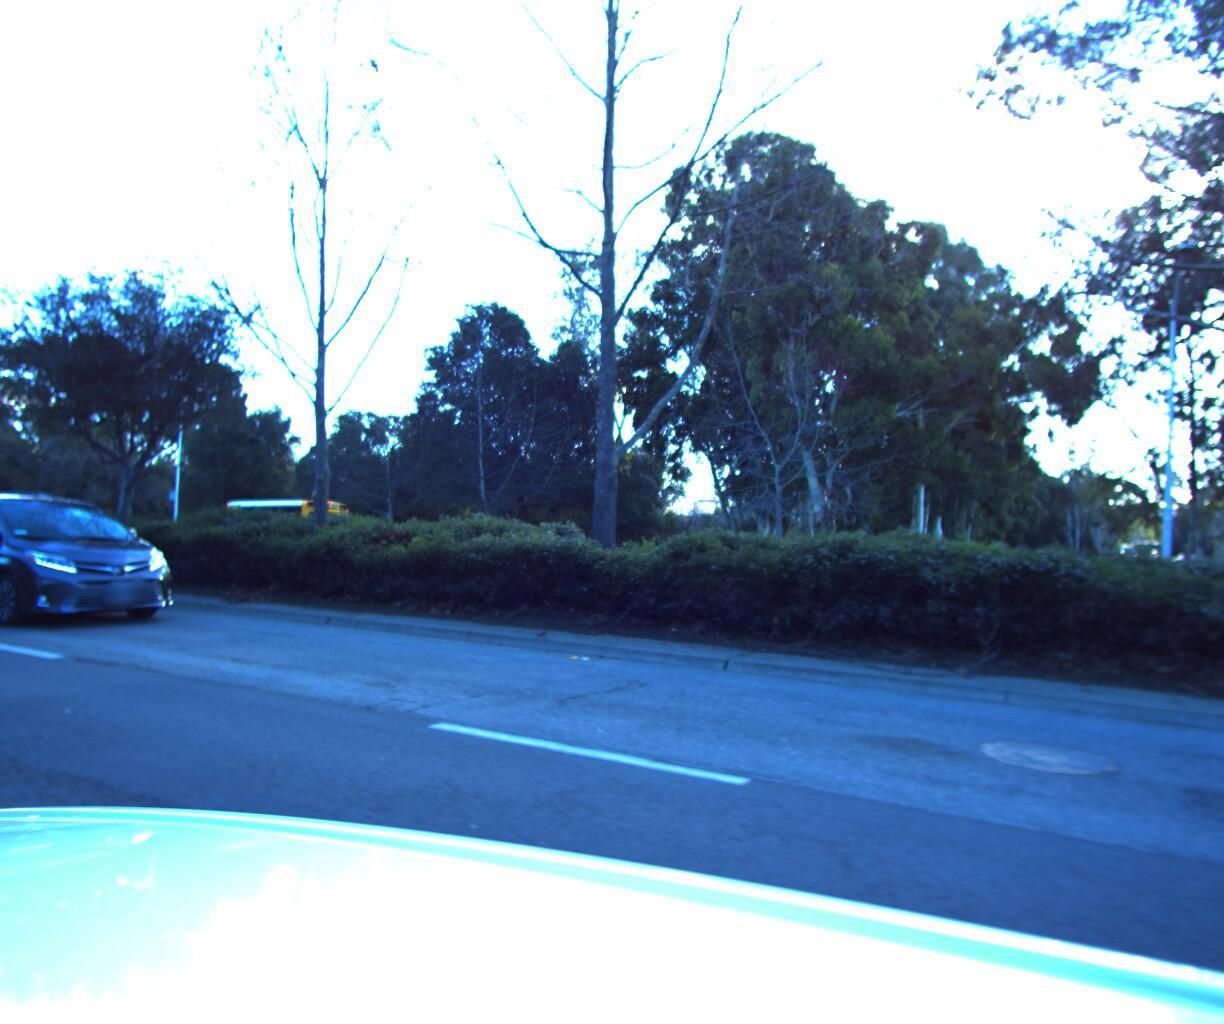bus: (181, 490, 359, 564)
car: (0, 478, 200, 635)
